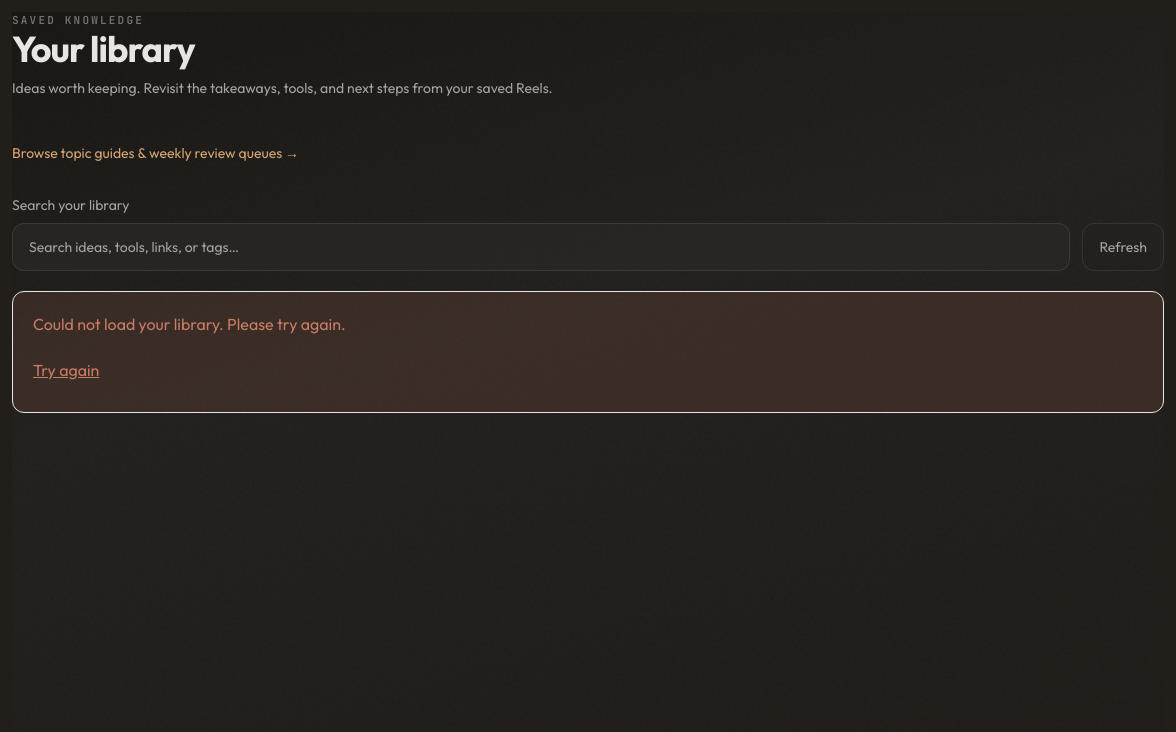
Knowledge library › retries a failed page without presenting partial results as a complete library
Expected: the message shows "Could not load your library", [33,314,346,334]
Click the button "Try again".
click(66, 370)  # box [33,348,99,392]
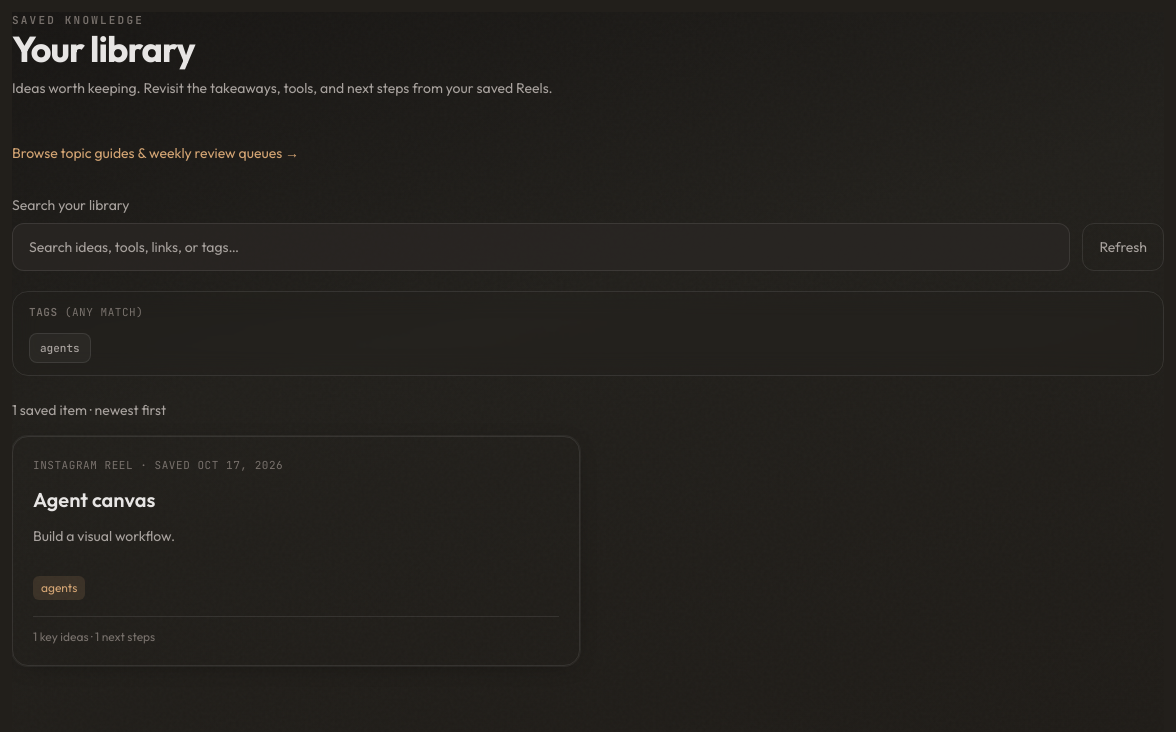
Now the link "Agent canvas" is shown, box [33,487,155,512]
